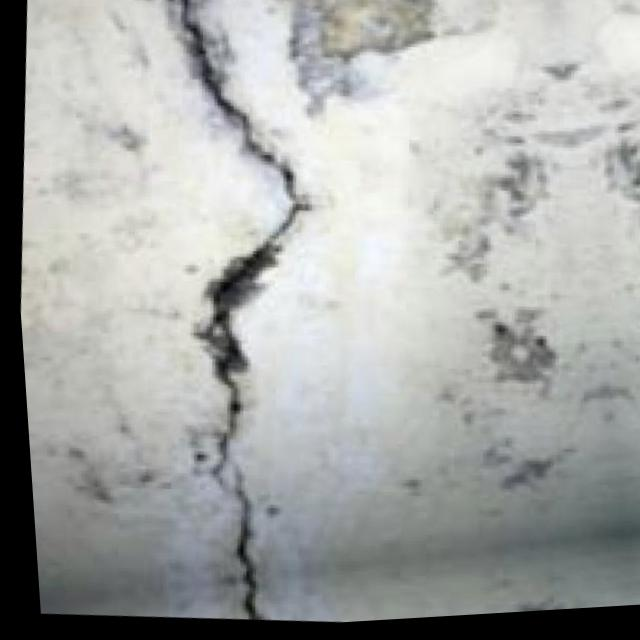Crack: (110, 0, 371, 630)
